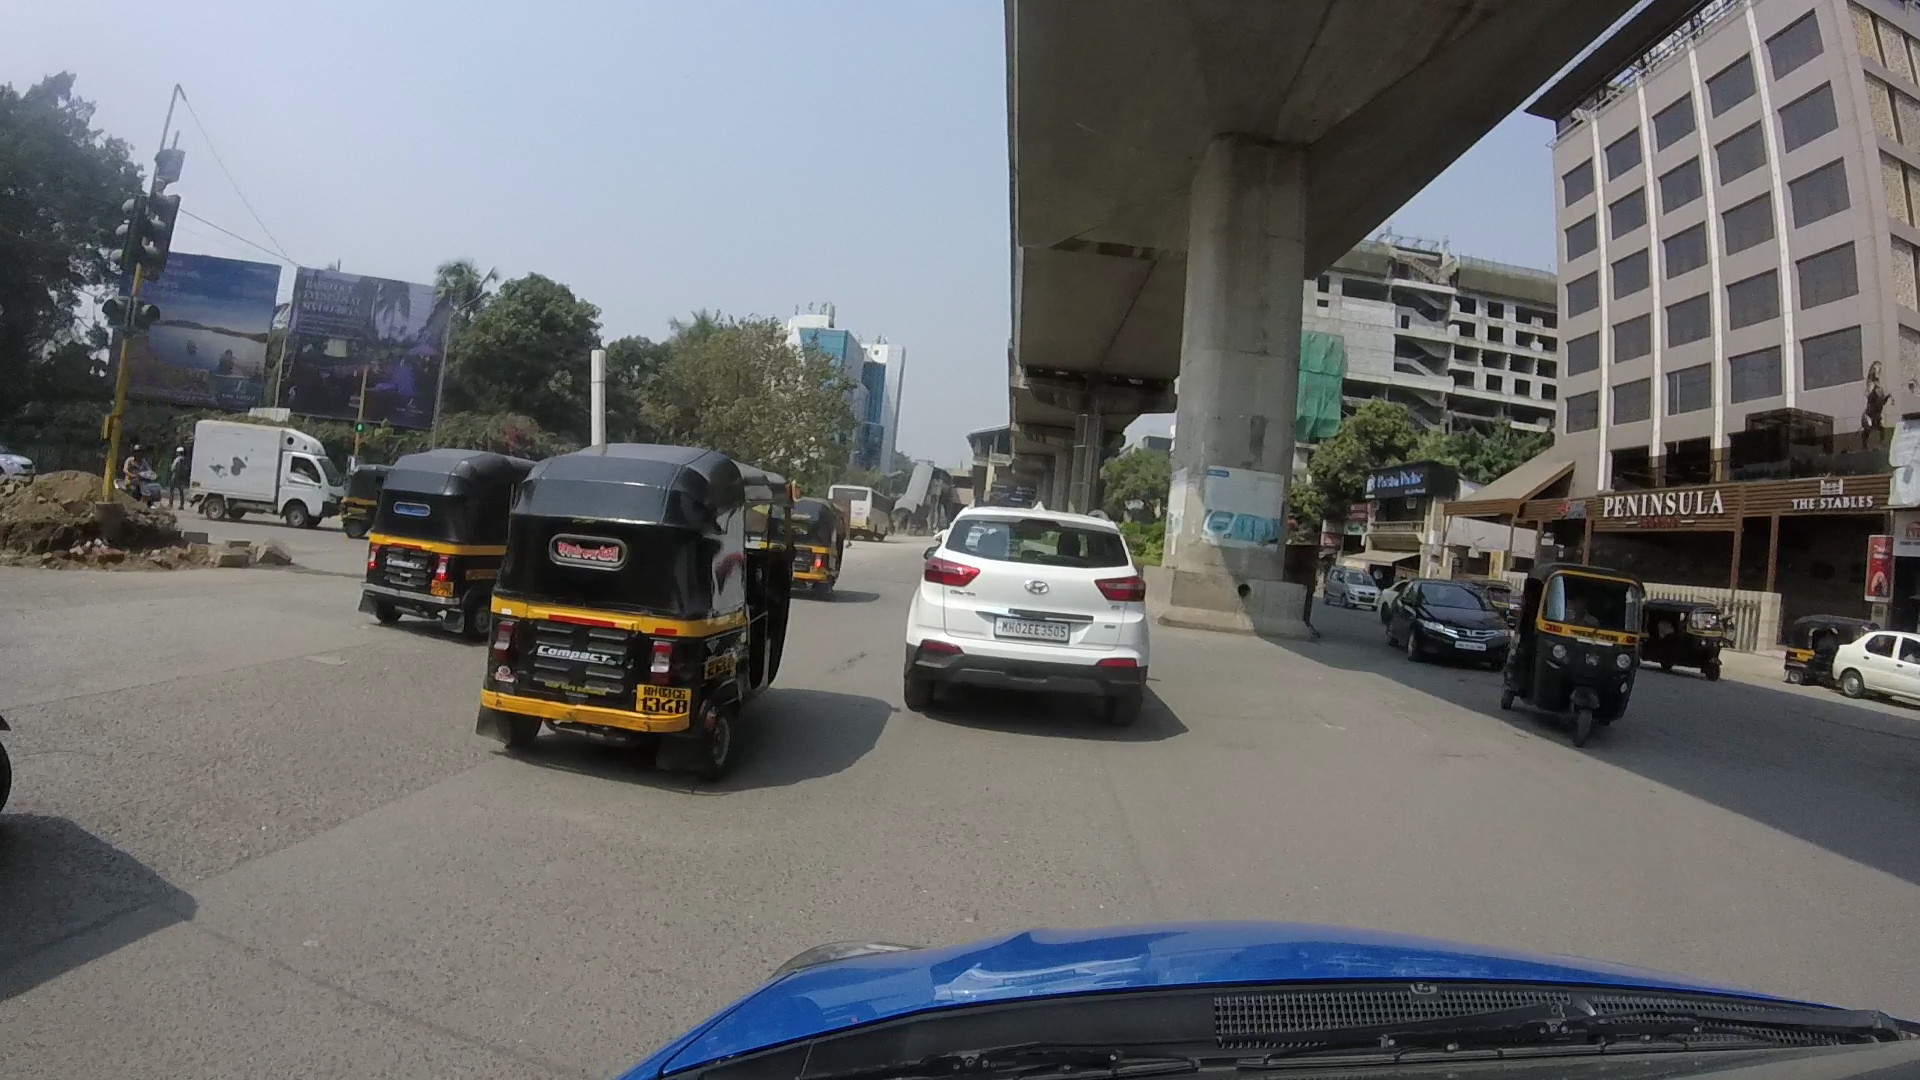car: (891, 495, 1172, 723), (1364, 568, 1509, 678), (1826, 636, 1920, 716)
rickshaw: (473, 436, 794, 752), (365, 448, 518, 647), (1502, 560, 1651, 741), (771, 475, 858, 589), (1647, 593, 1730, 680)
truck: (187, 409, 352, 539)
